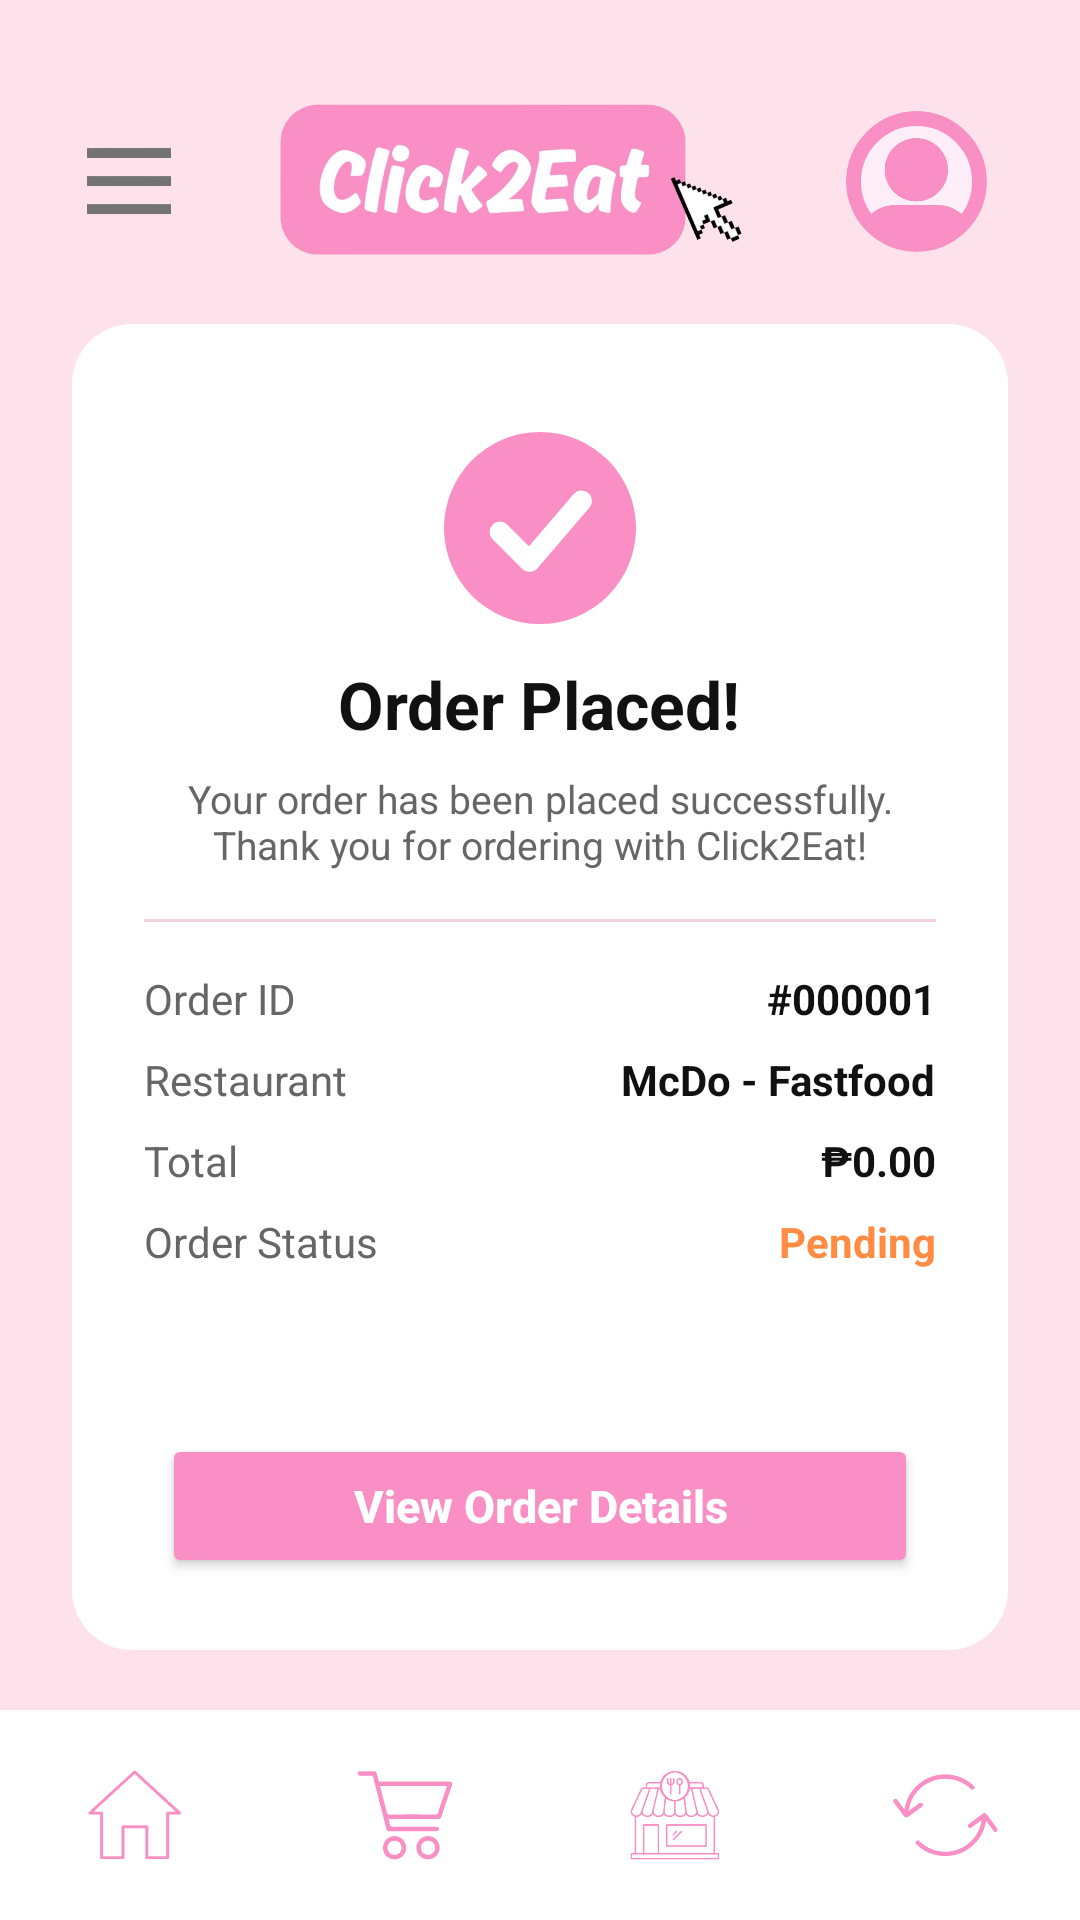

Icon bounding boxes for this 1080x1920 phone screenshot, format [x1,y1,x2,y2]:
Cart: [358,1771,452,1860]
Home: [88,1770,181,1859]
Menu: [87,148,171,214]
Open profile: [846,111,987,252]
Restaurants: [630,1771,719,1860]
